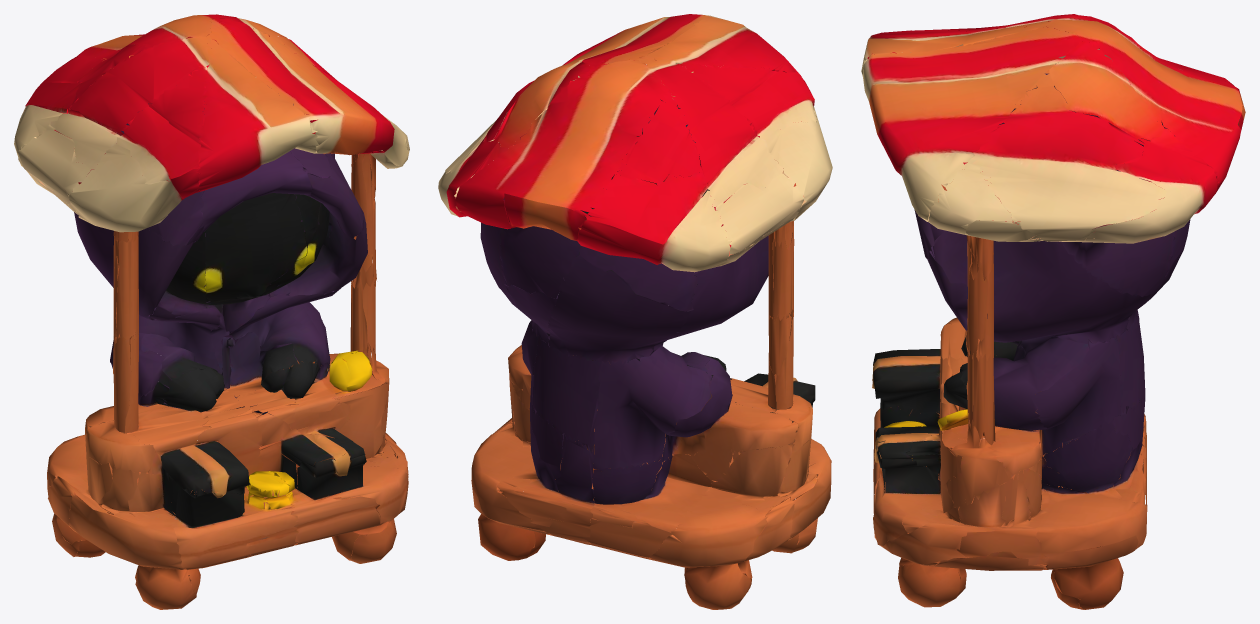
The model's file is shady.glb.
3 renders of one model, left to right at view 1: azimuth 30°, elevation 25°; view 2: azimuth 150°, elevation 25°; view 3: azimuth 270°, elevation 25°, orthographic. The views are drawn at different scales.
Visible parts, largest first — view 1: shady; view 2: shady; view 3: shady.
Part boxes in pixels (bbox=[...]): shady: bbox=[14, 14, 409, 609]; shady: bbox=[438, 14, 832, 609]; shady: bbox=[861, 14, 1245, 609].
Size of the model in its own units: 0.6484 by 1 by 0.6642.
1 material, 1 textured.
